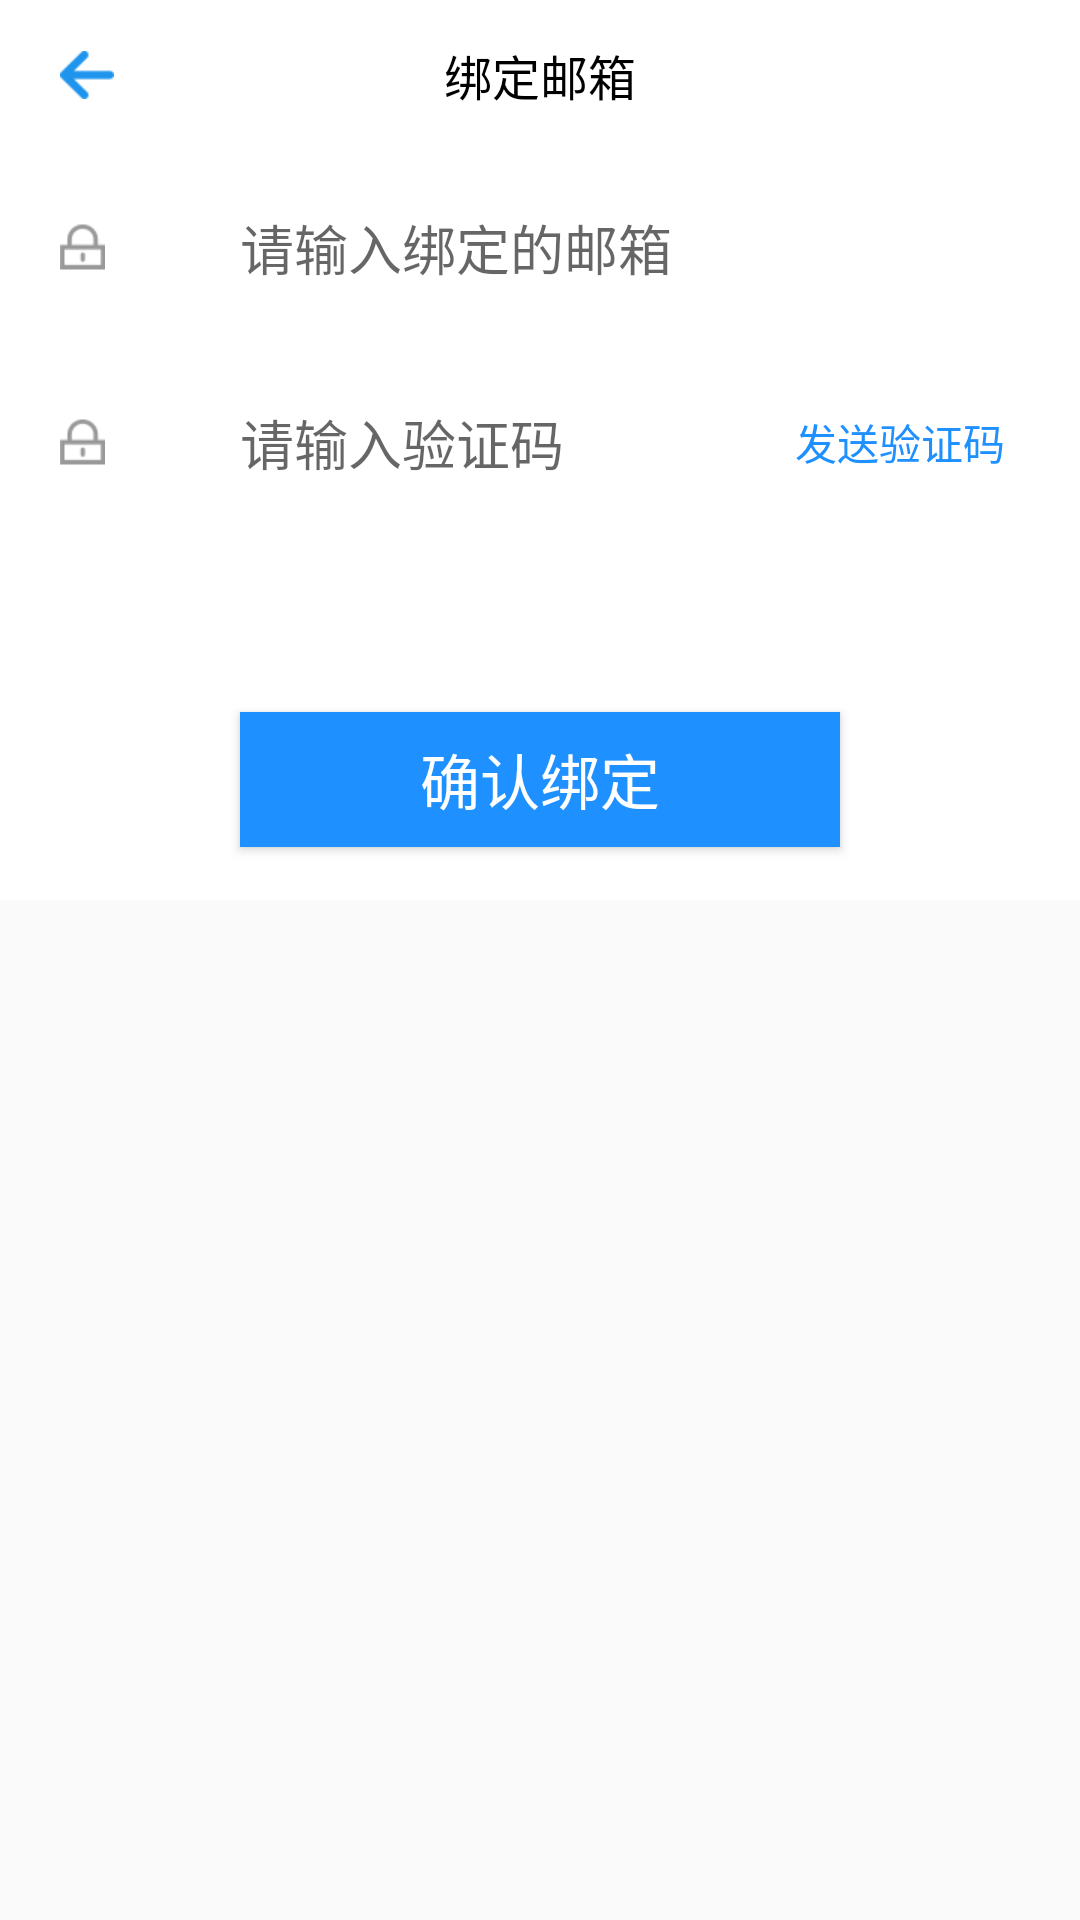

Icon click points for this 1080*1920 phone screenshot, format (x=x, y=y):
back: (x=87, y=75)
